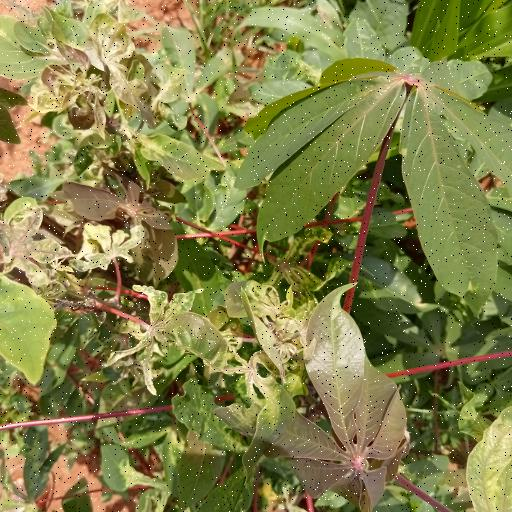Cassava_Brown_Leaf_Spot: (3, 208, 136, 309), (90, 0, 172, 121)
